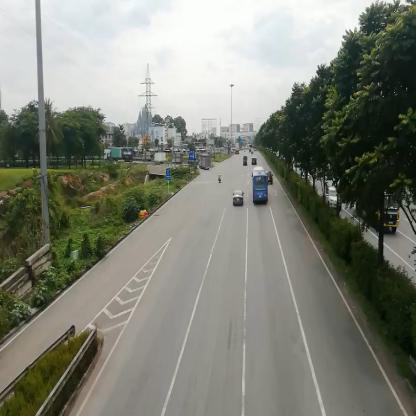bus: (253, 167, 269, 205)
car: (326, 185, 339, 210), (234, 190, 244, 207), (266, 172, 274, 186), (253, 158, 257, 166)
container: (104, 148, 134, 162)
truck: (200, 153, 213, 170), (155, 154, 168, 166), (174, 154, 183, 164), (244, 155, 249, 167)
